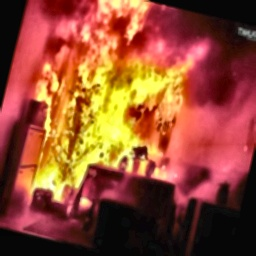fire: (0, 0, 247, 246)
